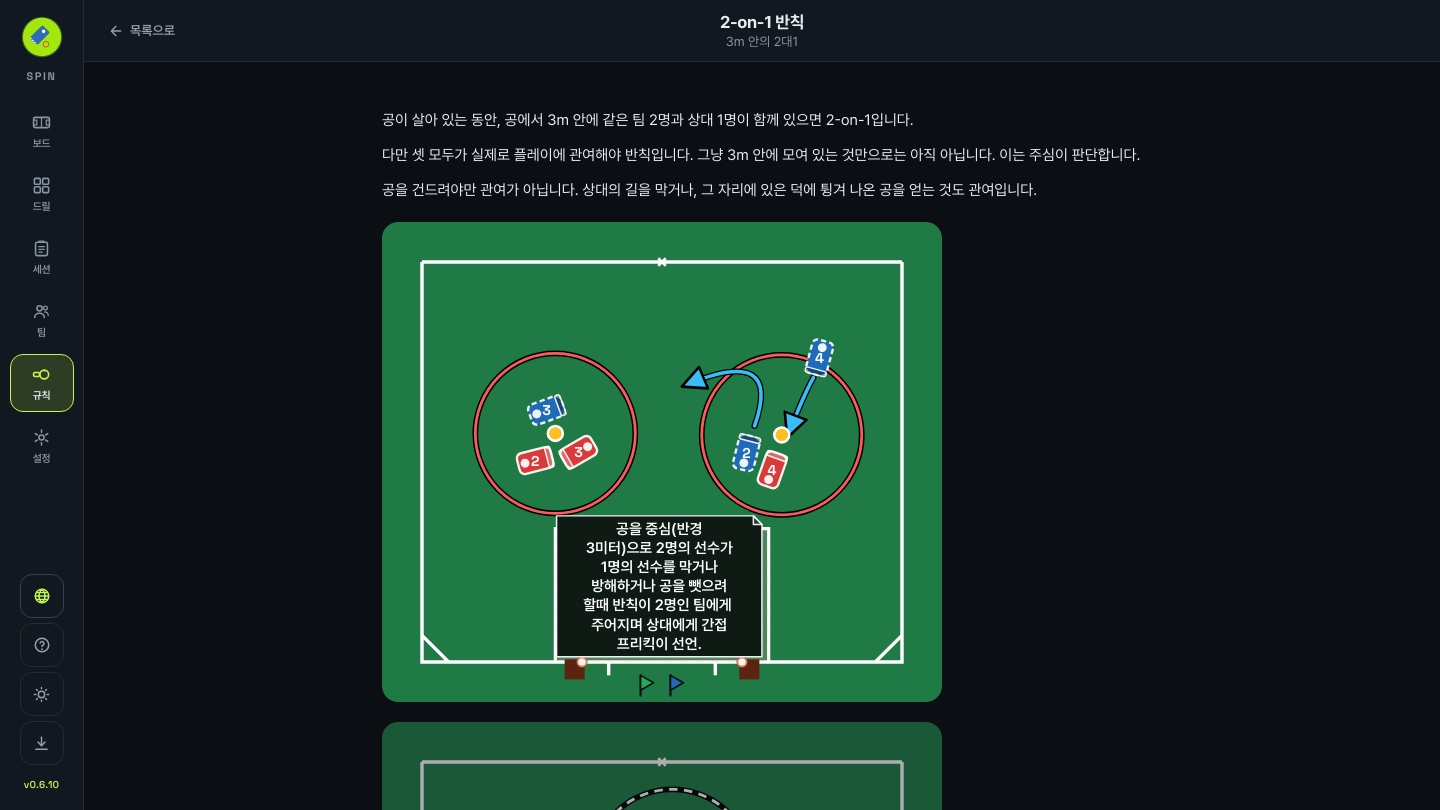
Test: AppShell 배선 — renderScreen 스위치 › 규칙 카드 안에서는 헤더가 카드 제목·부제를 보이고 [목록으로]가 목록으로 되돌린다 (2026-09-03 신설)
Expected: the text "2-on-1 반칙" is shown, [720, 12, 804, 32]
Expected: the text "3m 안의 2대1" is shown, [726, 34, 798, 49]
Click the button "목록으로".
click(142, 30)  # box [98, 8, 185, 52]
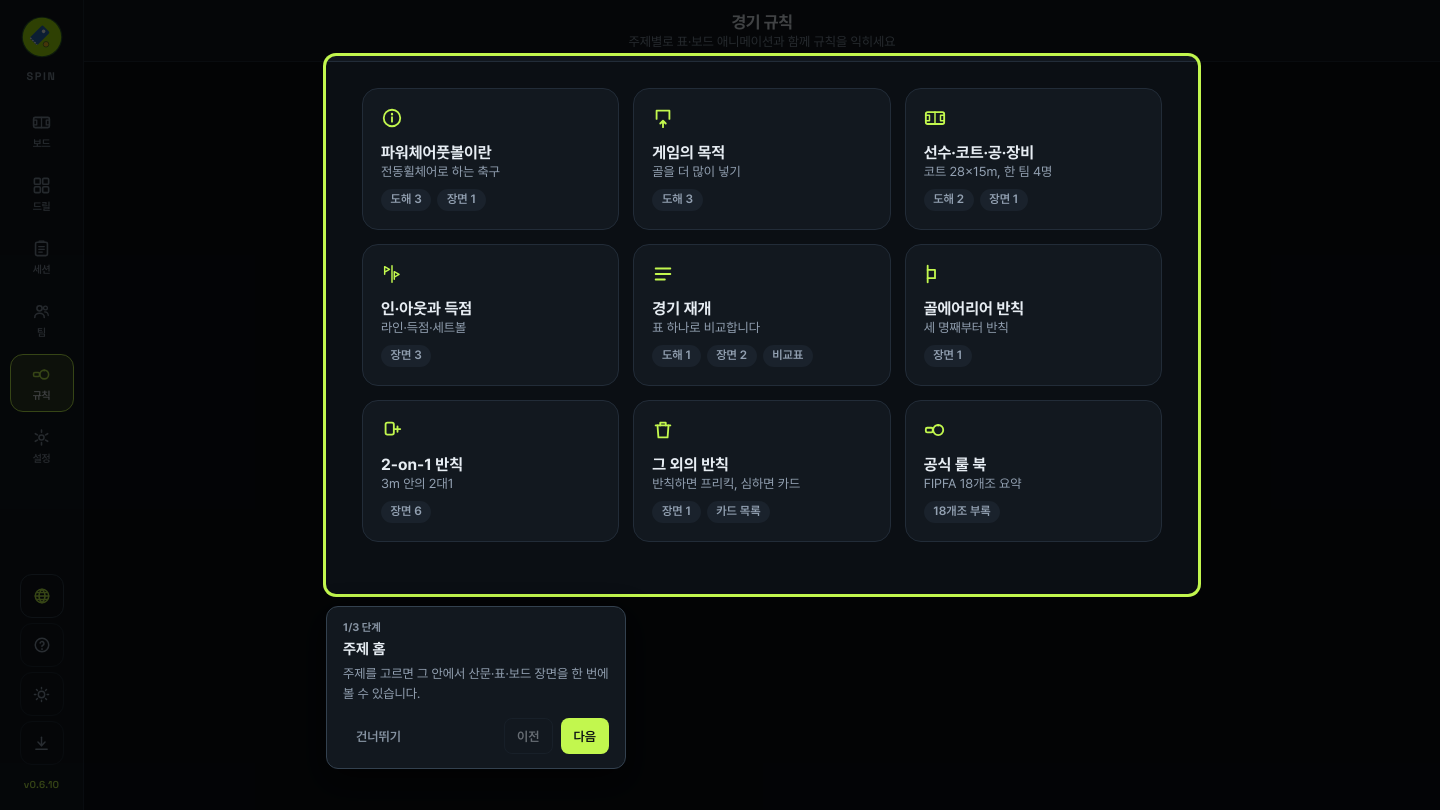
Result: the text "경기 규칙" is shown at [732, 12, 793, 32]
Result: the button "목록으로" is gone
